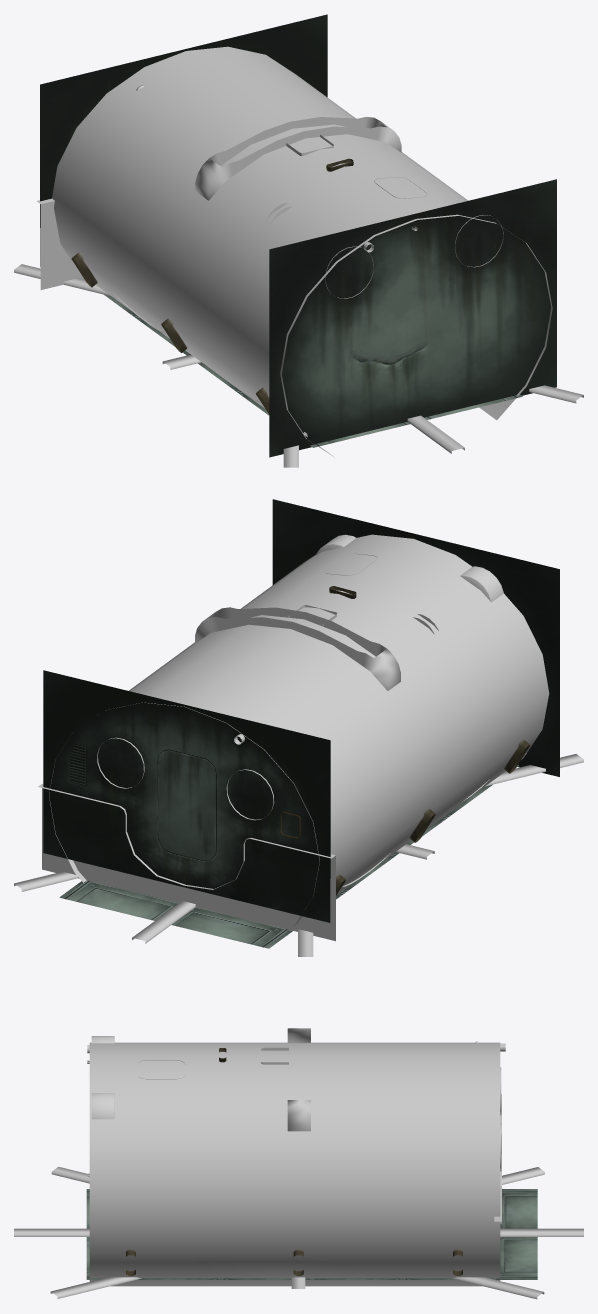
File: Nautilus_Prison_v4(1).fbx
3 views of the same model, one above another, from view 1: azimuth 30°, elevation 25°; view 2: azimuth 150°, elevation 25°; view 3: azimuth 270°, elevation 25° (orthographic). The views are drawn at different scales.
Parts seen in each view (by area): view 1: pCylinder1, pPlane2, pasted__pPlane2, polySurface3, polySurface7, pCube4, pPlane1, polySurface12; view 2: pCylinder1, pasted__pPlane2, pPlane2, pCube4, pPlane1, polySurface3, polySurface7, pasted__polySurface2, polySurface12; view 3: pCylinder1, pPlane1, polySurface7, polySurface3, pasted__pasted__polySurface2.
Boxes of the visible parts, x1=… form: pCylinder1: x1=52, y1=46, x2=552, y2=457; pPlane2: x1=269, y1=179, x2=556, y2=457; pasted__pPlane2: x1=40, y1=14, x2=327, y2=266; polySurface3: x1=195, y1=116, x2=401, y2=200; polySurface7: x1=14, y1=264, x2=583, y2=467; pCube4: x1=37, y1=198, x2=83, y2=289; pPlane1: x1=104, y1=294, x2=522, y2=447; polySurface12: x1=71, y1=252, x2=269, y2=414; pCylinder1: x1=49, y1=534, x2=549, y2=930; pasted__pPlane2: x1=43, y1=670, x2=330, y2=922; pPlane2: x1=272, y1=499, x2=559, y2=776; pCube4: x1=38, y1=783, x2=335, y2=941; pPlane1: x1=59, y1=765, x2=518, y2=948; polySurface3: x1=195, y1=607, x2=400, y2=690; polySurface7: x1=14, y1=754, x2=583, y2=956; pasted__polySurface2: x1=226, y1=566, x2=503, y2=820; polySurface12: x1=336, y1=739, x2=530, y2=895; pCylinder1: x1=89, y1=1042, x2=500, y2=1286; pPlane1: x1=86, y1=1189, x2=537, y2=1279; polySurface7: x1=14, y1=1166, x2=583, y2=1299; polySurface3: x1=287, y1=1028, x2=310, y2=1131; pasted__pasted__polySurface2: x1=91, y1=1093, x2=501, y2=1171.
Bounding box in the file's own units: 304 × 220 × 563.
